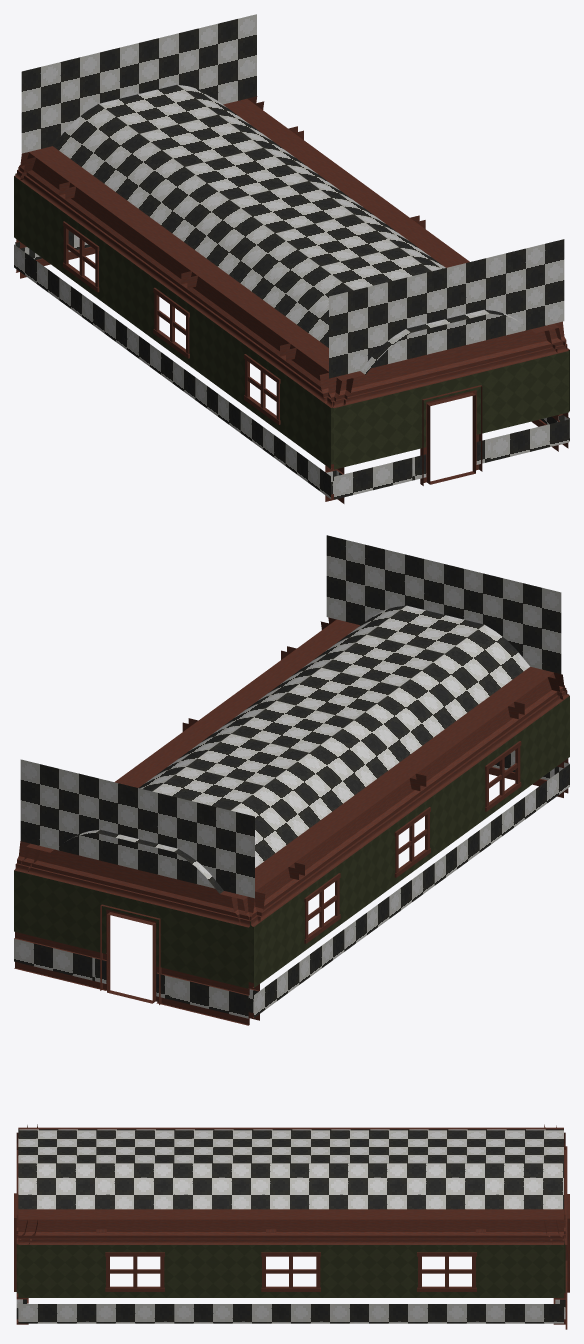
Rendered from Room_8.fbx.
3 renders of one model, top to bottom at view 1: azimuth 30°, elevation 25°; view 2: azimuth 150°, elevation 25°; view 3: azimuth 270°, elevation 25°, orthographic. The views are drawn at different scales.
Parts seen in each view (by area): view 1: Plane.007; view 2: Plane.007; view 3: Plane.007.
Part boxes in pixels (x1,y1,x2,y2): Plane.007: (14,14,569,503); Plane.007: (14,535,569,1025); Plane.007: (14,1124,569,1329).
Size of the model in its own units: 618 by 500 by 1427.
